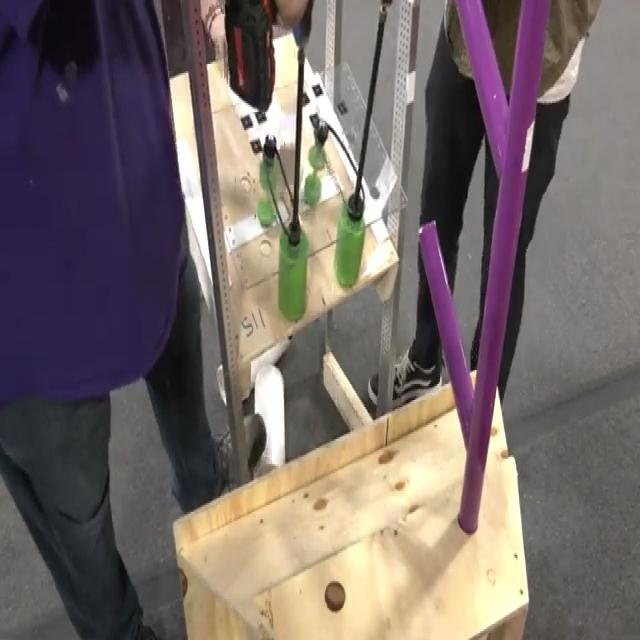Coral: (255, 368, 286, 473)
